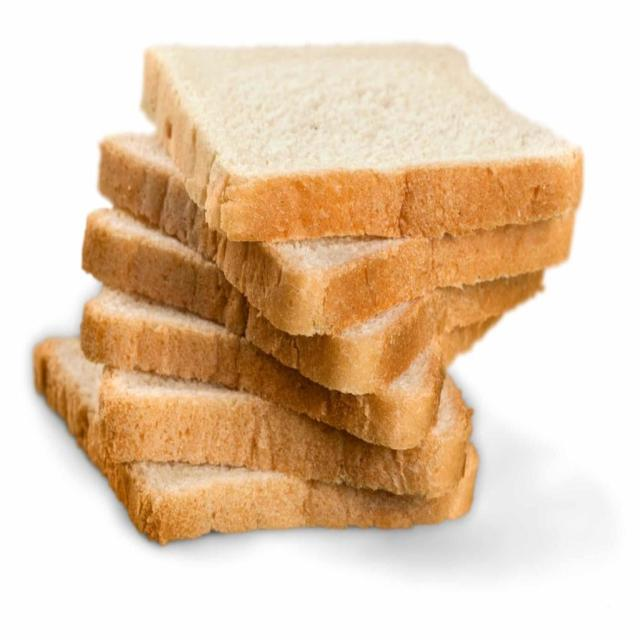Bread: (142, 46, 581, 241), (100, 370, 471, 497), (218, 212, 574, 335), (106, 462, 306, 544)
